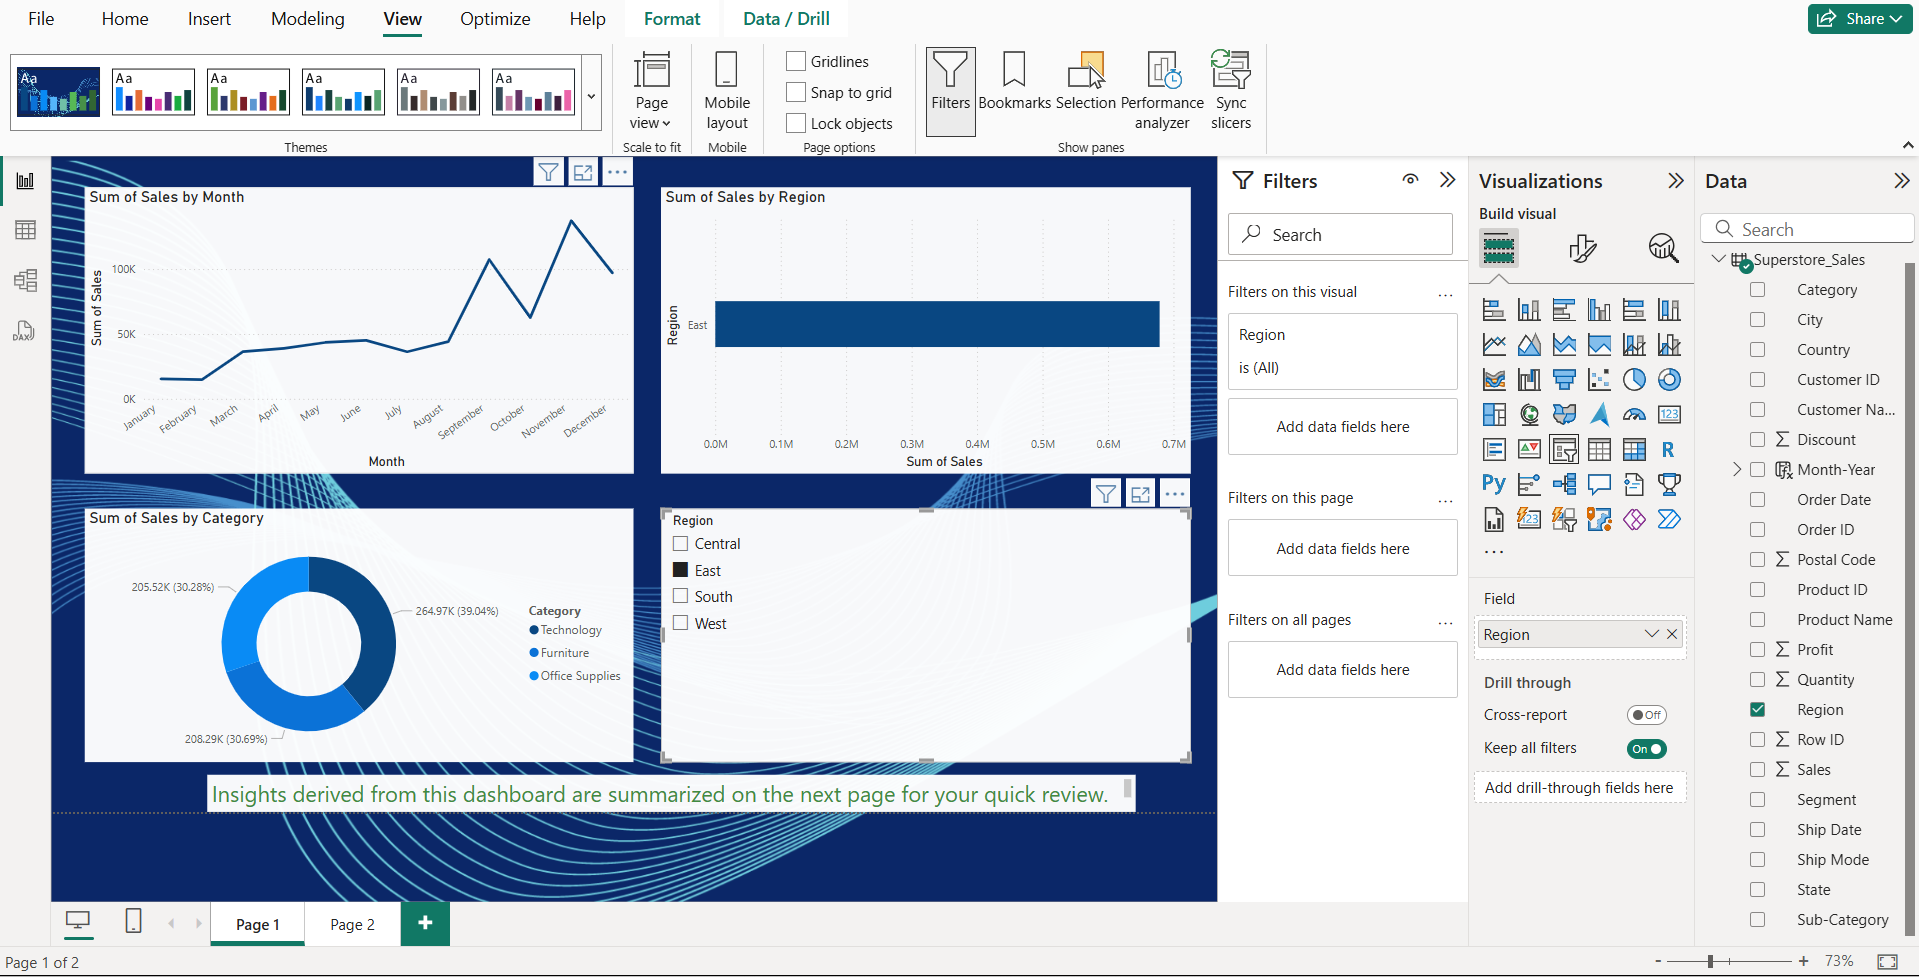

Layout of this report page (visuals, bound fields, positions):
{"tool":"powerbi","page":{"name":"Page 1","canvas":[1280,720],"ordinal":0},"visuals":[{"type":"lineChart","fields":{"Y":["Sum(Superstore_Sales.Sales)"],"Category":["Superstore_Sales.Month-Year.Variation.Date Hierarchy.Month"]},"box":[37,34.3,602.4,314.2],"z":0},{"type":"barChart","fields":{"Y":["Sum(Superstore_Sales.Sales)"],"Category":["Superstore_Sales.Region"]},"box":[669.6,34.3,581.8,314.2],"z":1000},{"type":"donutChart","fields":{"Y":["Sum(Superstore_Sales.Sales)"],"Category":["Superstore_Sales.Category"]},"box":[37,387,602.4,278.6],"z":2000},{"type":"slicer","fields":{"Values":["Superstore_Sales.Region"]},"box":[669.6,387,581.8,278.6],"z":3000},{"type":"textbox","box":[171.5,679.2,1019.6,41.2],"z":3001}]}

Visuals, with their boxes on the page's 1280x720 design canvas (x1, y1, x2, y2). These are canvas units, not pixel positions in the 1919x977 screenshot, which may show the page scaled, cropped or inside an application window:
lineChart - Sum(Superstore_Sales.Sales) x Superstore_Sales.Month-Year.Variation.Date Hierarchy.Month: box=[37, 34, 639, 348]
barChart - Sum(Superstore_Sales.Sales) x Superstore_Sales.Region: box=[670, 34, 1251, 348]
donutChart - Sum(Superstore_Sales.Sales) x Superstore_Sales.Category: box=[37, 387, 639, 666]
slicer - Superstore_Sales.Region: box=[670, 387, 1251, 666]
textbox: box=[172, 679, 1191, 720]
